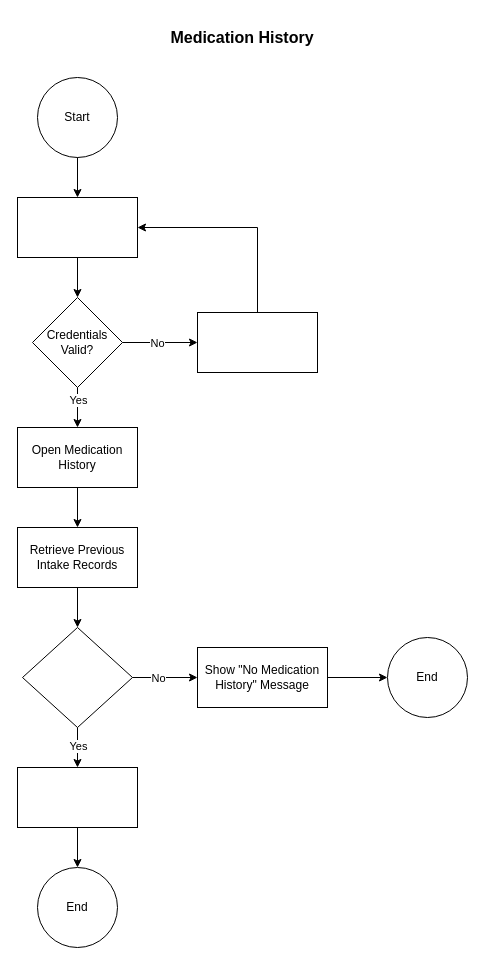
The diagram is 485 pixels wide and 965 high, and some of its shapes have lost their labels. Each missing label, with the centre of its shape:
Any Records Found?: (77,677)
Display Intake Records: (77,797)
Log In: (77,227)
Show Login Error: (257,342)
